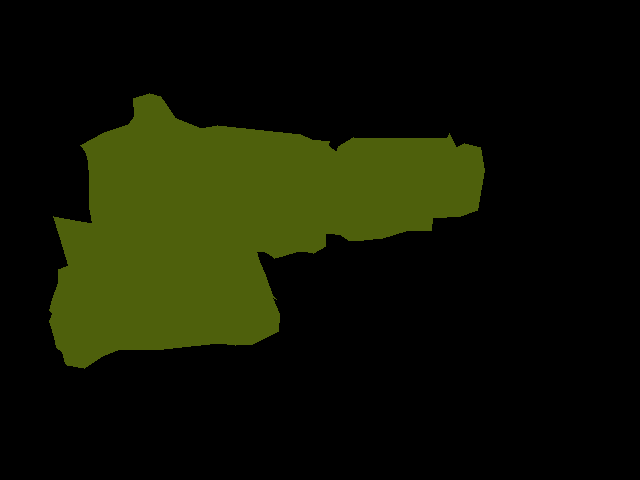Train: (49, 93, 484, 369)
